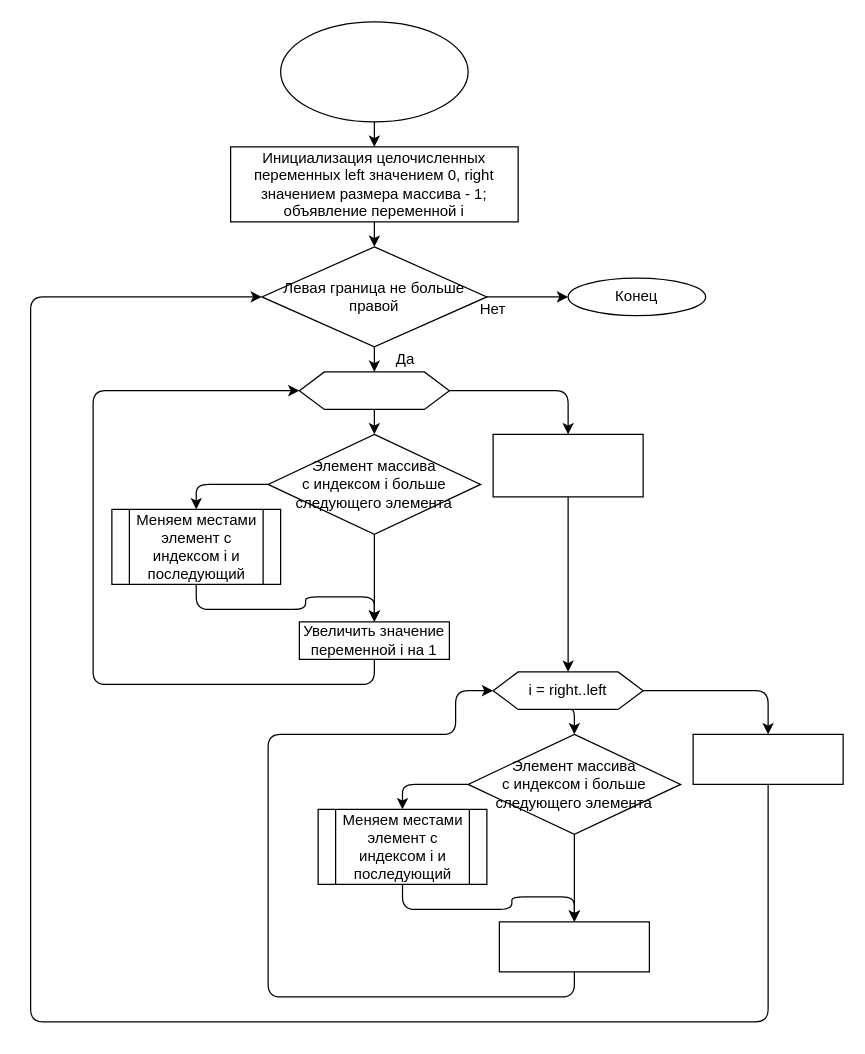
Some shapes in this 865 by 1054 pixel diagram are drawn without their labels. The shapes that lost their labels are listed below. From the top down, each one's centre as x and y in pixels, then its label:
At point (373, 71): "Функция cocktailShakerSort с аргументами: целочисленный массив, размер массива".
At point (373, 390): "i = left..right-1".
At point (567, 465): "Уменьшить значение переменной right на 1".
At point (767, 758): "Увеличить значение переменной left на 1".
At point (573, 946): "Уменьшить значение переменной i на 1".
